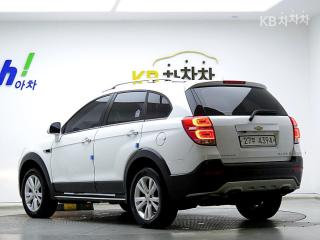2: (243, 137, 248, 145)
3: (261, 136, 266, 144)
4: (258, 136, 262, 144), (269, 136, 273, 144)
7: (247, 137, 251, 144)
9: (265, 136, 269, 145)
plate: (235, 133, 279, 150)
무: (251, 136, 257, 145)
